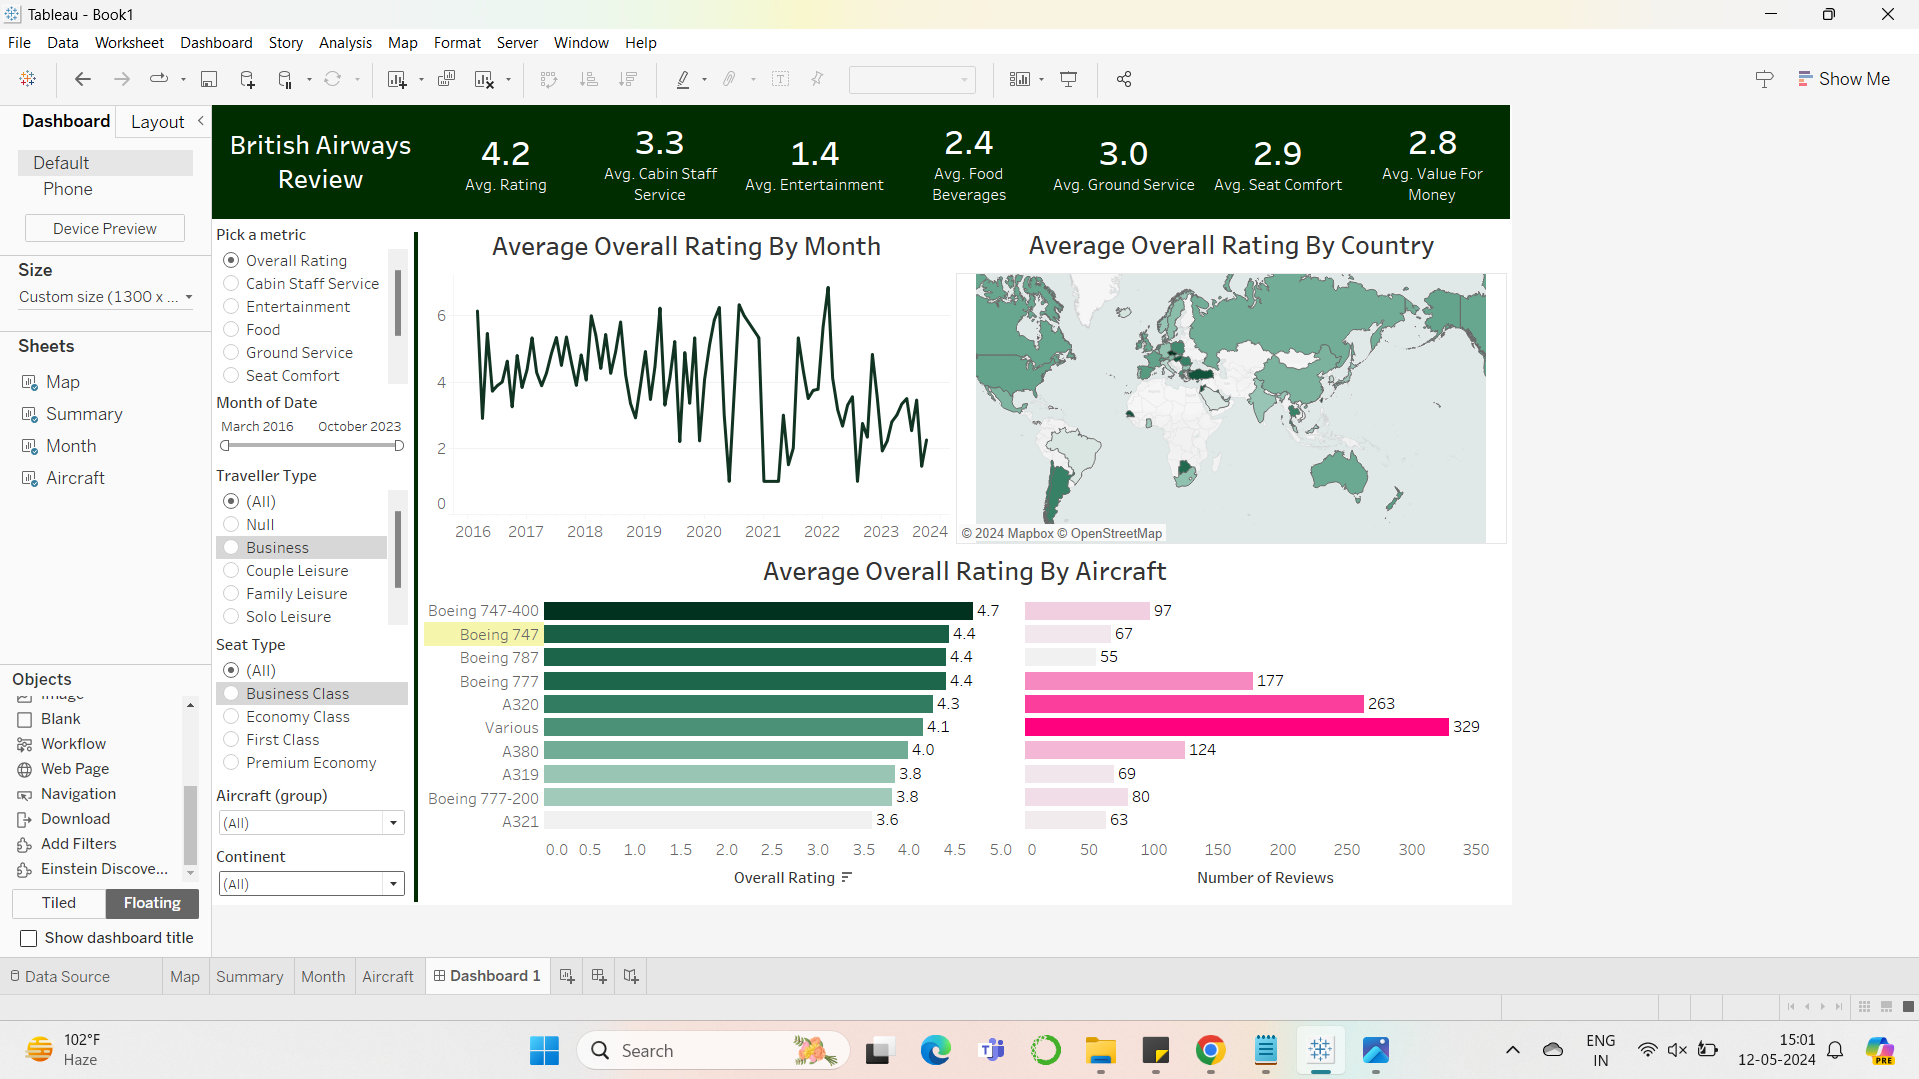

What the dashboard file says about the page in this screenshot:
{"tool":"tableau","page":{"name":"Dashboard 1","canvas":[1300,800],"ordinal":0},"visuals":[{"type":"text","box":[0,0,216.7,114.3]},{"type":"worksheet","title":"Summary","mark":"Automatic","box":[216.7,0,1081.2,114.3]},{"type":"parameter","param":"[Parameters].[Parameter 1]","box":[0,115,200,168.5]},{"type":"worksheet","title":"Map","mark":"Automatic","box":[744,118,551,321]},{"type":"worksheet","title":"Month","mark":"Automatic","rows":["Calculation_1605814759383044096"],"cols":["date"],"box":[211,119,527,320]},{"type":"blank","box":[202,127,4,670]},{"type":"filter","title":"Map","param":"[federated.1jjg04t1hdqxck12blagf1dg65wd].[tmn:date:qk]","box":[0,283.5,200,73]},{"type":"filter","title":"Map","param":"[federated.1jjg04t1hdqxck12blagf1dg65wd].[none:traveller_type:nk]","box":[0,356.5,200,168.5]},{"type":"worksheet","title":"Aircraft","mark":"Automatic","cols":["Calculation_1605814759383044096","ba_reviews.csv_F18A1546A8C44DC6B73F2FBE2157D3E8"],"box":[212,444,1082,347]},{"type":"filter","title":"Map","param":"[federated.1jjg04t1hdqxck12blagf1dg65wd].[none:seat_type:nk]","box":[0,525,200,151]},{"type":"filter","title":"Map","param":"[federated.1jjg04t1hdqxck12blagf1dg65wd].[Aircraft (group)]","box":[0,676,200,61]},{"type":"filter","title":"Map","param":"[federated.1jjg04t1hdqxck12blagf1dg65wd].[none:Continent:nk]","box":[0,737,200,61]}]}

Visuals, with their boxes on the page's 1300x800 design canvas (x1, y1, x2, y2). These are canvas units, not pixel positions in the 1919x1079 screenshot, which may show the page scaled, cropped or inside an application window:
text: {"left": 0, "top": 0, "right": 217, "bottom": 114}
"Summary" worksheet: {"left": 217, "top": 0, "right": 1298, "bottom": 114}
parameter: {"left": 0, "top": 115, "right": 200, "bottom": 284}
"Map" worksheet: {"left": 744, "top": 118, "right": 1295, "bottom": 439}
"Month" worksheet: {"left": 211, "top": 119, "right": 738, "bottom": 439}
blank: {"left": 202, "top": 127, "right": 206, "bottom": 797}
"Map" filter: {"left": 0, "top": 284, "right": 200, "bottom": 356}
"Map" filter: {"left": 0, "top": 356, "right": 200, "bottom": 525}
"Aircraft" worksheet: {"left": 212, "top": 444, "right": 1294, "bottom": 791}
"Map" filter: {"left": 0, "top": 525, "right": 200, "bottom": 676}
"Map" filter: {"left": 0, "top": 676, "right": 200, "bottom": 737}
"Map" filter: {"left": 0, "top": 737, "right": 200, "bottom": 798}
